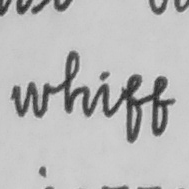f: (118, 70, 146, 146), (148, 73, 175, 140)
h: (62, 48, 92, 118)
i: (95, 68, 114, 120)
w: (10, 79, 53, 119)
